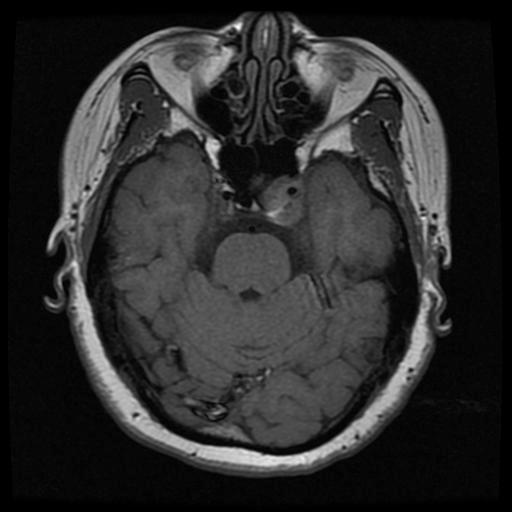Tumour-Pituitary: (203, 175, 313, 237)
